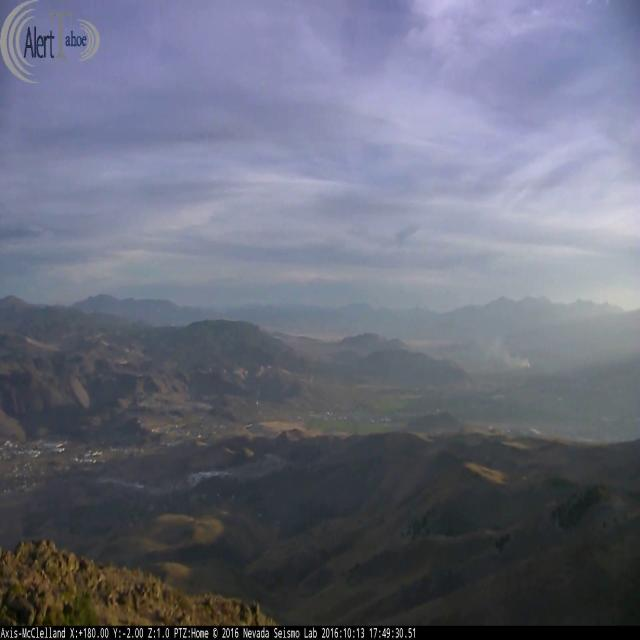smoke: (480, 334, 531, 369)
